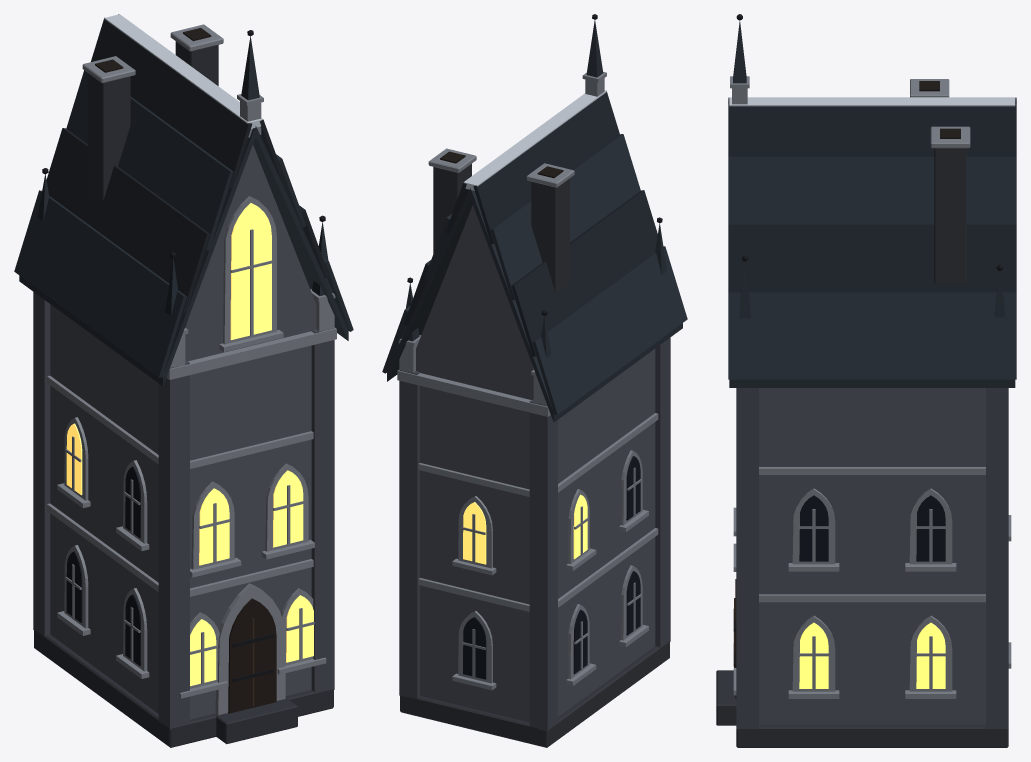
The model's file is gothic_house_d.glb.
3 renders of one model, left to right at view 1: azimuth 30°, elevation 25°; view 2: azimuth 150°, elevation 25°; view 3: azimuth 270°, elevation 25°, orthographic. The views are drawn at different scales.
Visible parts, largest first — view 1: gothic_house_d; view 2: gothic_house_d; view 3: gothic_house_d.
Part boxes in pixels (x1,y1,x2,y2): gothic_house_d: (14, 14, 353, 747); gothic_house_d: (382, 14, 687, 747); gothic_house_d: (716, 14, 1016, 747).
Bounding box in the file's own units: 4.31 × 14.74 × 5.77.
